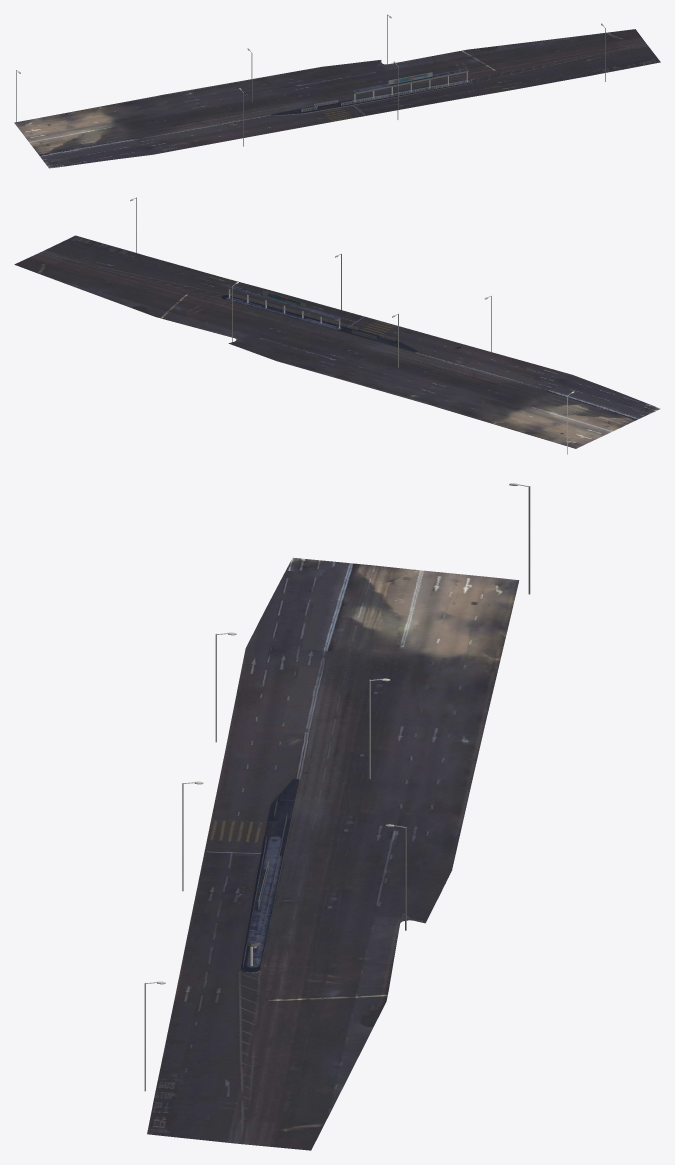
The model's file is arsenal-street.glb.
3 renders of one model, top to bottom at view 1: azimuth 30°, elevation 25°; view 2: azimuth 150°, elevation 25°; view 3: azimuth 270°, elevation 25°, orthographic. The views are drawn at different scales.
Visible parts, largest first — view 1: arsenal-street; view 2: arsenal-street; view 3: arsenal-street.
Part boxes in pixels (bbox=[...]): arsenal-street: bbox=[14, 14, 660, 168]; arsenal-street: bbox=[14, 197, 660, 454]; arsenal-street: bbox=[144, 483, 530, 1150].
Bounding box in the file's own units: 150 × 15.26 × 42.47.
Materials: 7 (7 with a texture image).
